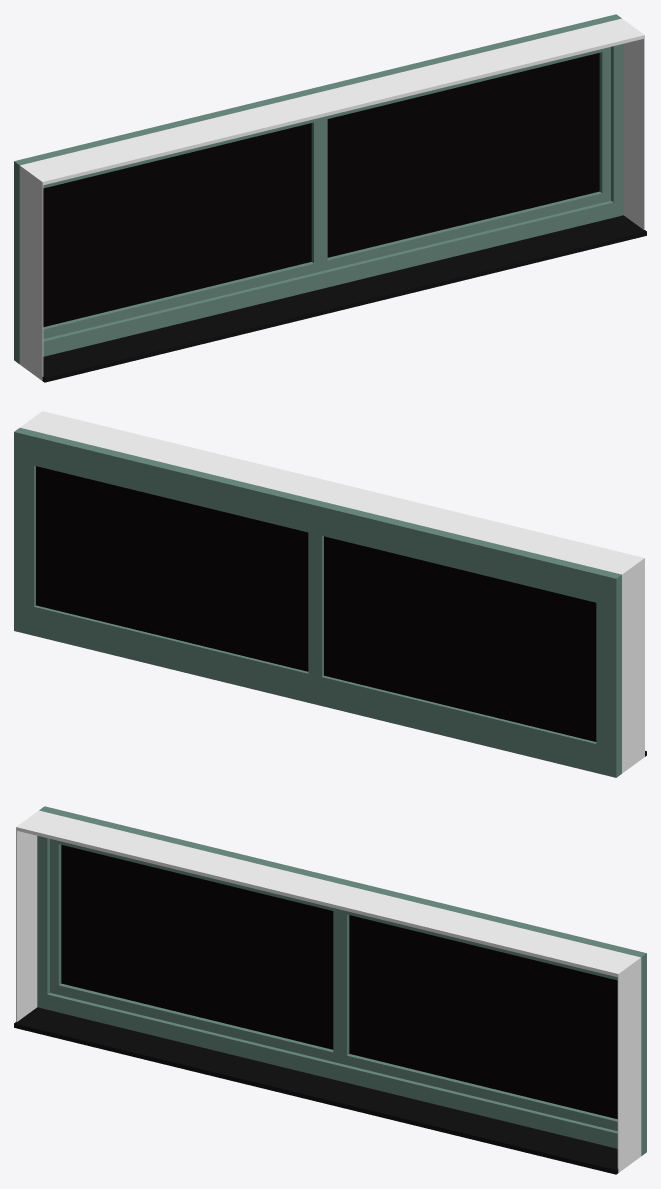
The model's file is Janela.FBX.
3 views of the same model, one above another, from view 1: azimuth 30°, elevation 25°; view 2: azimuth 150°, elevation 25°; view 3: azimuth 330°, elevation 25° (orthographic).
Visible parts, largest first — view 1: janela_low; view 2: janela_low; view 3: janela_low.
Boxes of the visible parts, box(x1,y1,x2,y2) form: janela_low: box(14, 14, 646, 382); janela_low: box(14, 411, 646, 777); janela_low: box(14, 806, 646, 1174).
Size of the model in its own units: 263 by 82.92 by 23.15.
